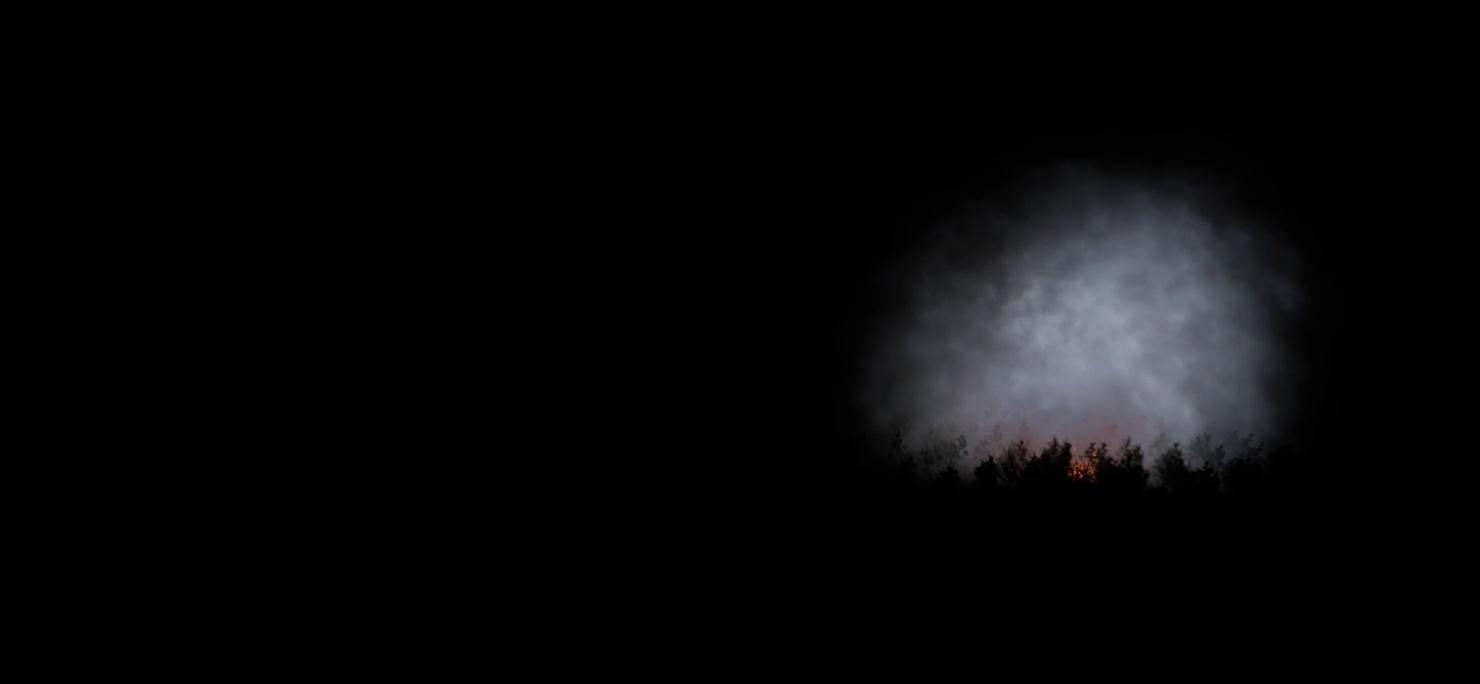smoke: (866, 163, 1310, 474)
